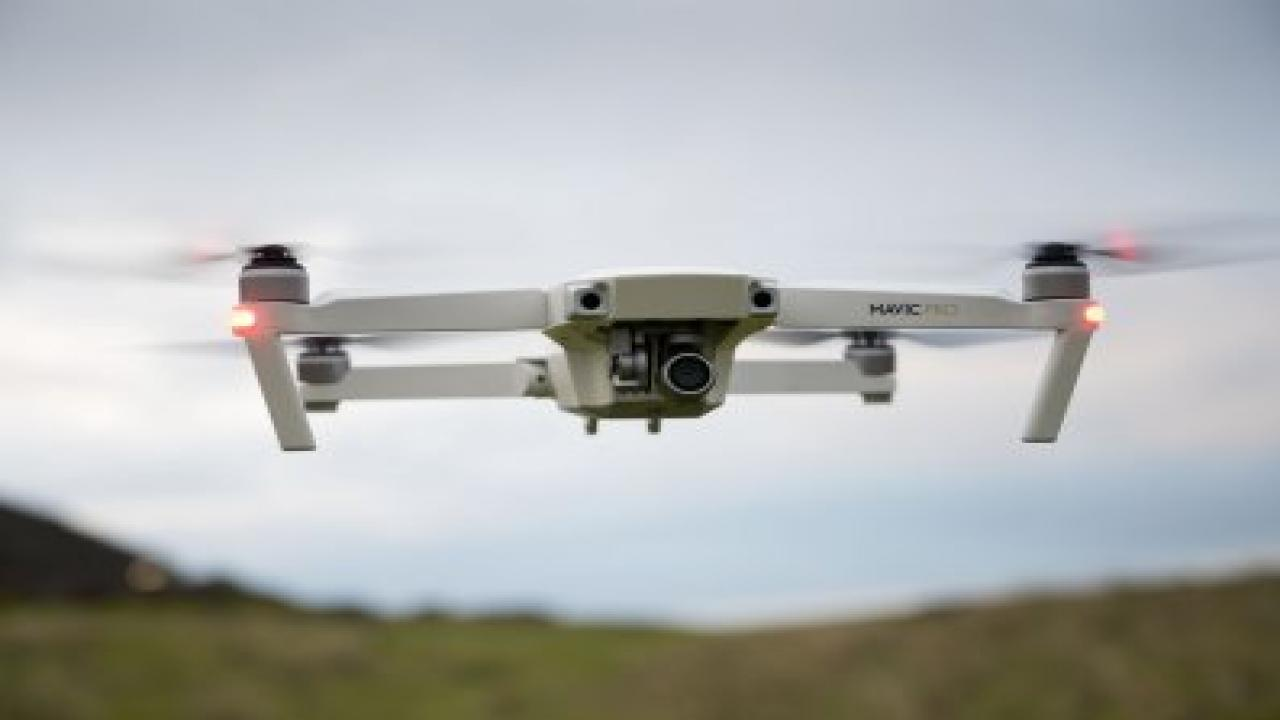Drone: (38, 212, 1280, 463)
